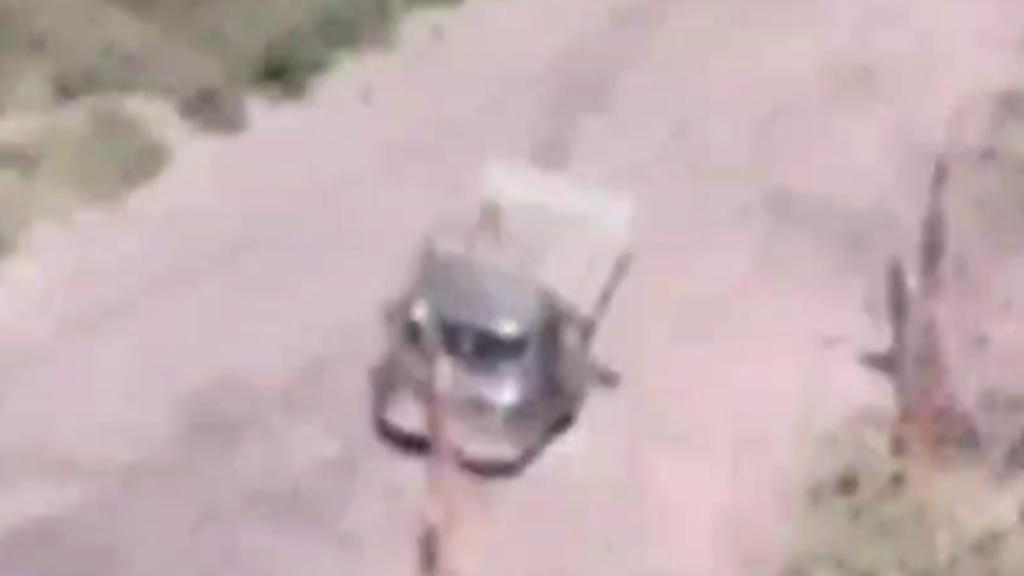CAR: (362, 154, 640, 462)
